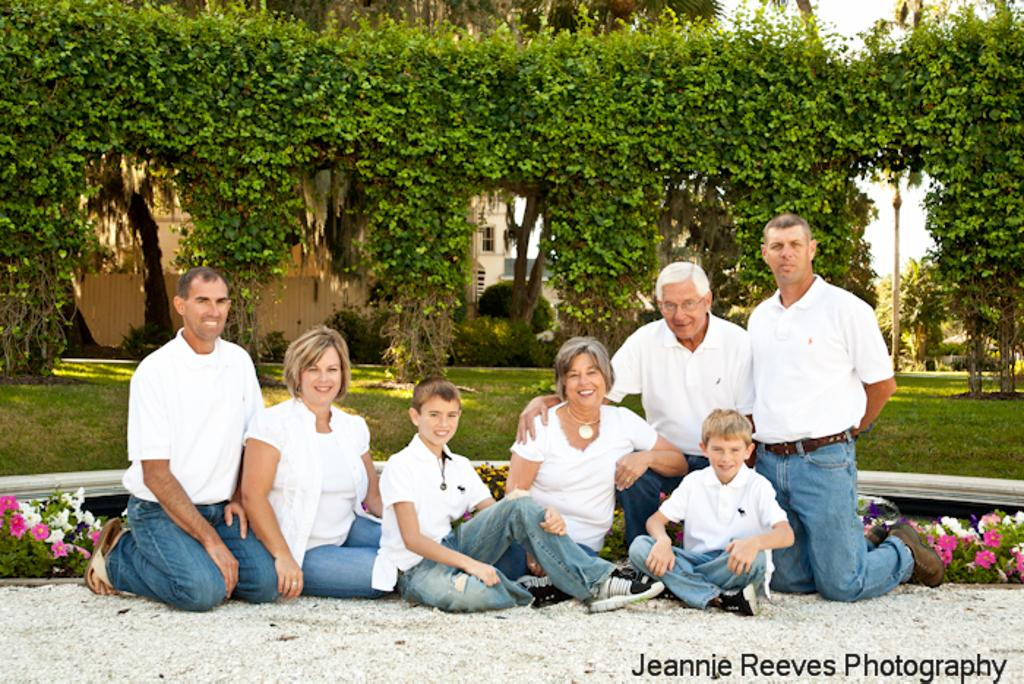face: (301, 341, 343, 403), (187, 278, 228, 341), (661, 283, 704, 339), (565, 353, 606, 408), (766, 228, 806, 282), (421, 392, 460, 443), (707, 430, 745, 475)
